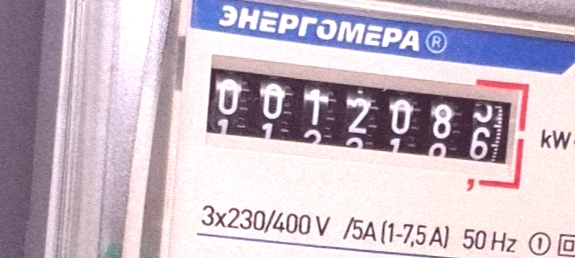0: (255, 78, 286, 122), (212, 73, 239, 117), (385, 96, 411, 136)
1: (300, 85, 325, 127)
2: (342, 95, 370, 135)
6: (463, 123, 489, 161)
8: (427, 100, 452, 141)
screen: (191, 40, 539, 203)
